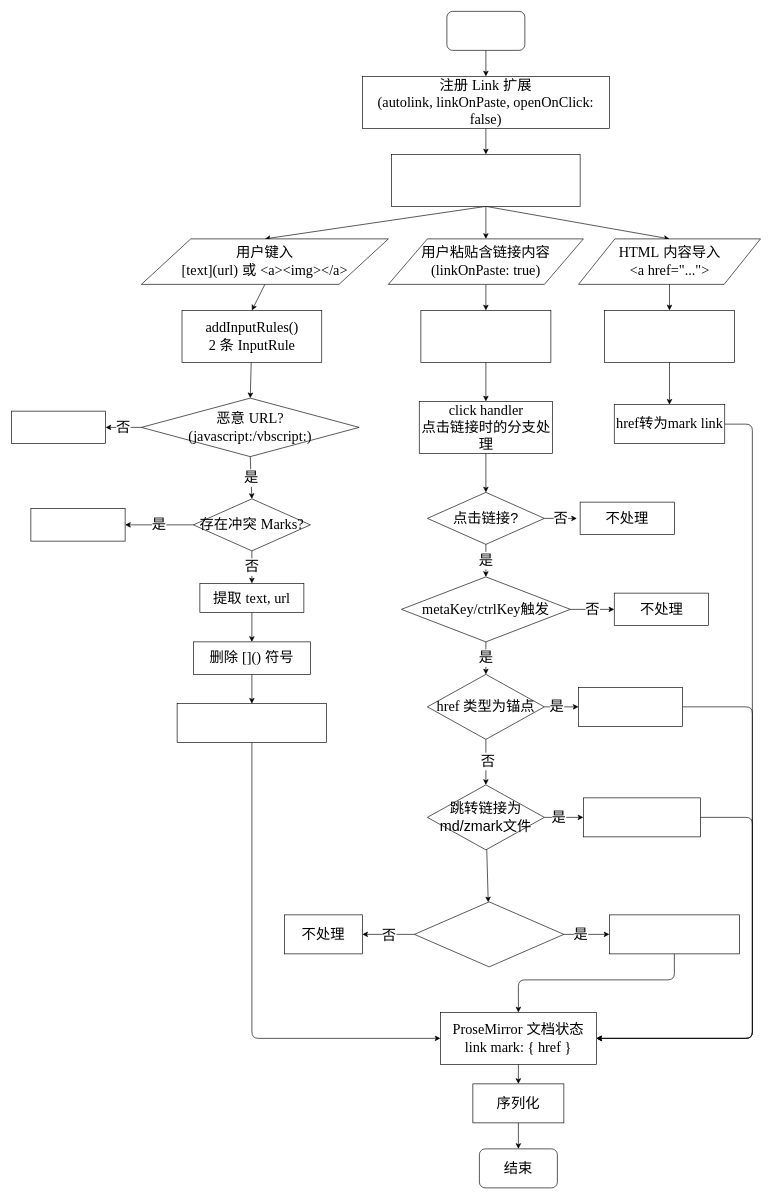
This 772x1199 diagram has some shape labels left out. The centre of each missing label's shape, as x and y in pixels:
#anchor 页内锚点跳转: (x=630, y=706)
addMark 创建 Link mark: (x=251, y=723)
linkOnPaste 自动识别并转换链接: (x=485, y=336)
parseHTML() 解析 <a> 标签: (x=669, y=336)
Tiptap Editor 初始化 Link 注册至 ProseMirror Schema: (x=485, y=180)
仅保留纯文本: (x=58, y=427)
开始: (x=485, y=30)
本地文档跳转: (x=641, y=817)
浏览器外部链接打开: (x=674, y=934)
跳转链接为http 等协议链接: (x=489, y=934)
返回 null 不转换: (x=77, y=524)
